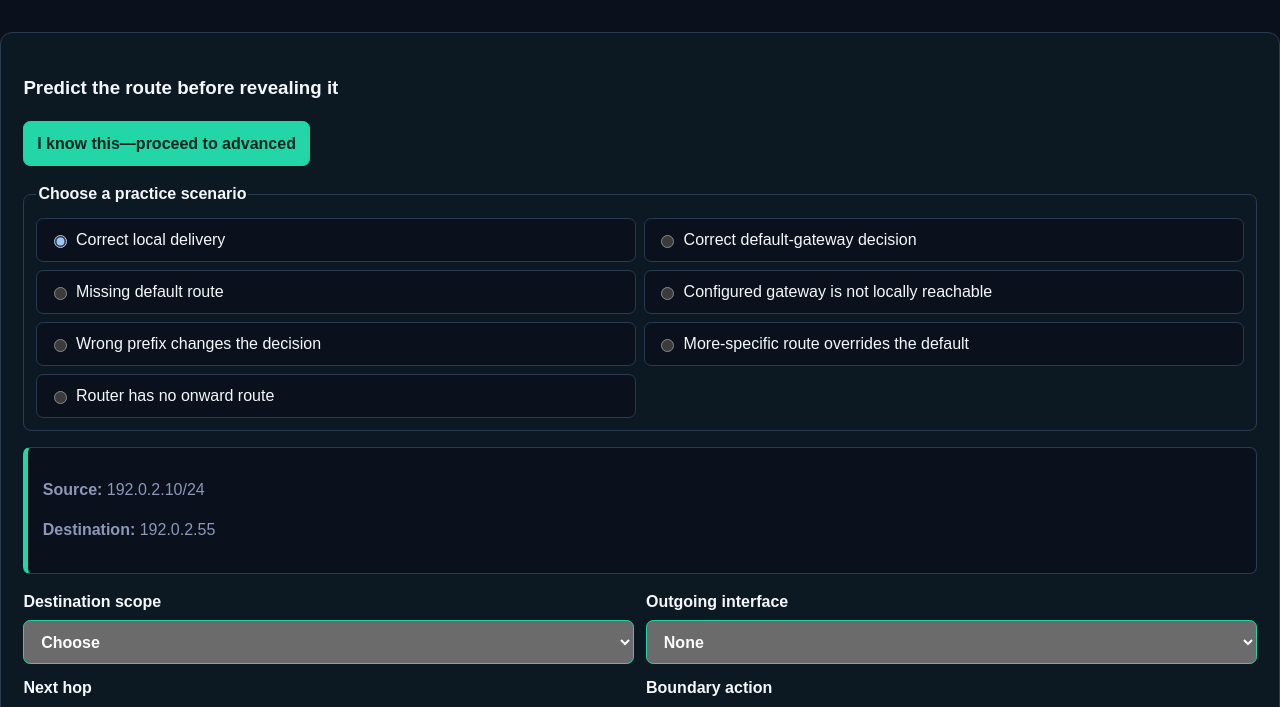
it: RouteDecisionLab › jumps to and focuses the first intermediate scenario
Step 1. Click the button "I know this—proceed to advanced" → (167, 144), box [23,121,310,166]
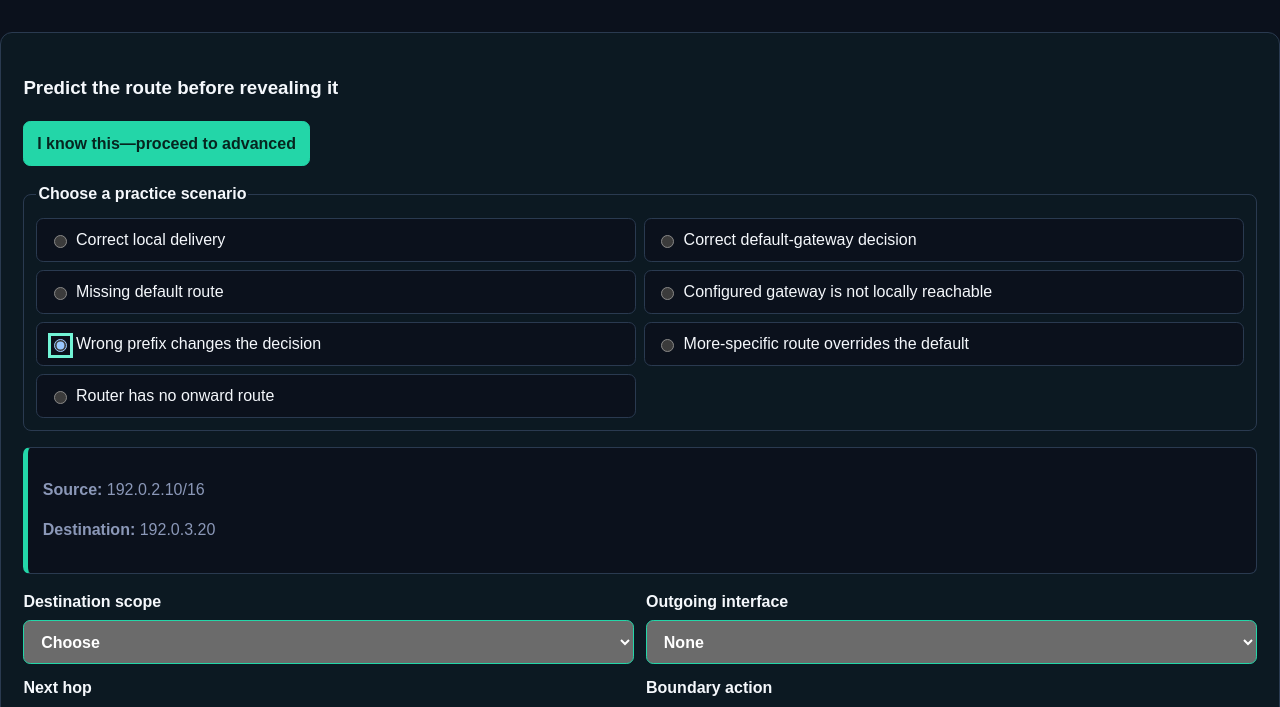
Expected: the radio button labelled "Wrong prefix changes the decision" is checked, [54,339,67,352]
